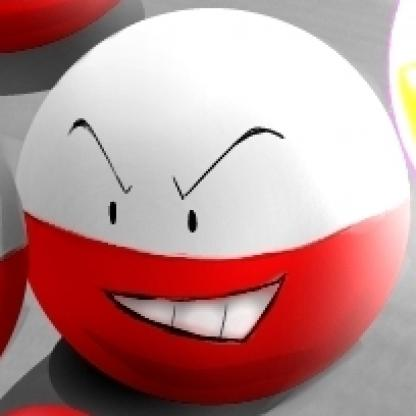Electrode: (23, 12, 411, 407)
